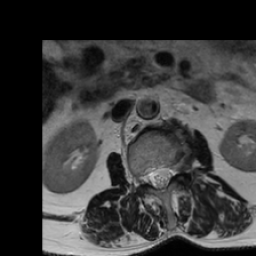CCS_normal: (155, 161, 163, 198)
LFS_normal: (171, 153, 179, 180)
LLS_normal: (163, 157, 172, 191)
RFS_normal: (139, 164, 147, 191)
RLS_normal: (147, 163, 155, 193)
